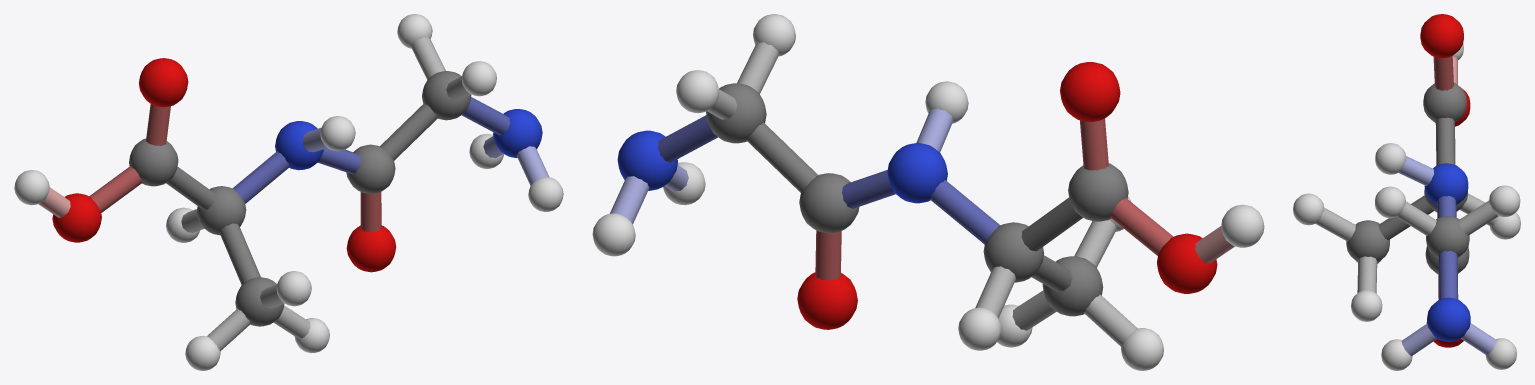
File: gly-ala.glb
The picture shows the model from 3 angles, left to right: view 1: azimuth 30°, elevation 25°; view 2: azimuth 150°, elevation 25°; view 3: azimuth 270°, elevation 25°; orthographic projection. The views are drawn at different scales.
Size of the model in its own units: 0.25 by 0.131 by 0.1049.
